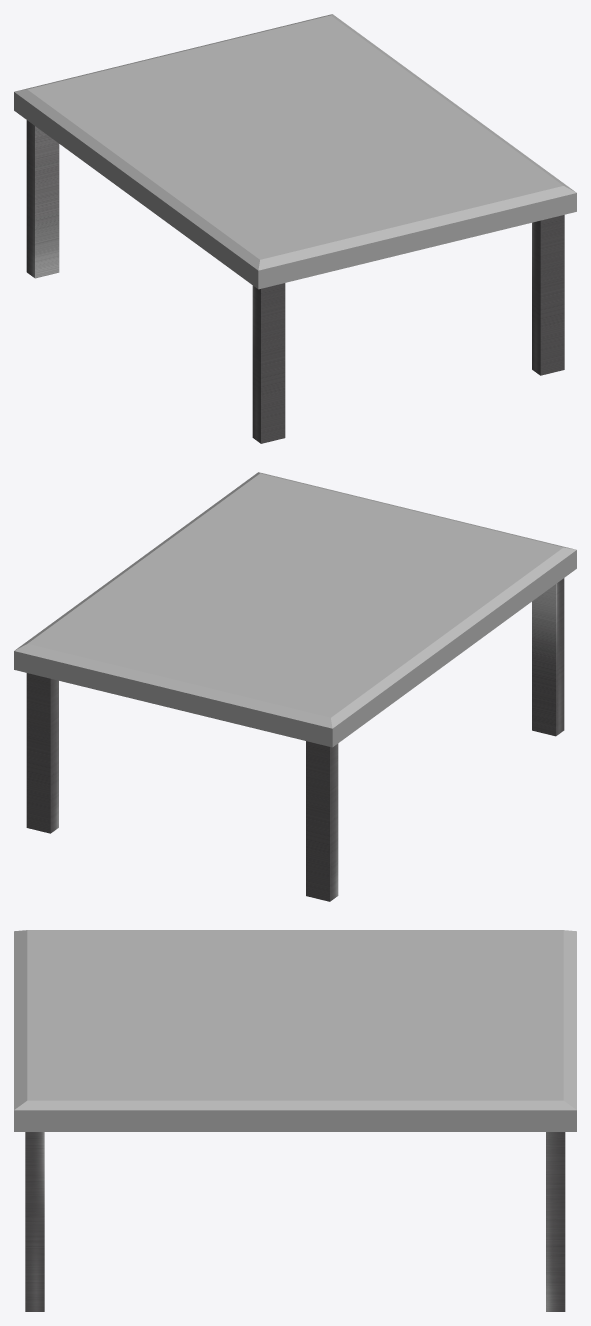
The model's file is GlassDesk.fbx.
The picture shows the model from 3 angles, top to bottom: view 1: azimuth 30°, elevation 25°; view 2: azimuth 150°, elevation 25°; view 3: azimuth 270°, elevation 25°; orthographic projection. The views are drawn at different scales.
Visible parts, largest first — view 1: pCube1, pCube6, pCube3, pCube5; view 2: pCube1, pCube5, pCube4, pCube6; view 3: pCube1, pCube3, pCube4.
Part boxes in pixels (x1,y1,x2,y2): pCube1: (14, 14, 576, 289); pCube6: (252, 283, 285, 443); pCube3: (532, 215, 564, 375); pCube5: (26, 120, 59, 278); pCube1: (14, 472, 576, 747); pCube5: (306, 741, 338, 901); pCube4: (26, 673, 58, 833); pCube6: (532, 578, 564, 736); pCube1: (14, 930, 576, 1131); pCube3: (25, 1132, 44, 1311); pCube4: (546, 1132, 565, 1311).
Size of the model in its own units: 13.66 by 7.52 by 18.15.
